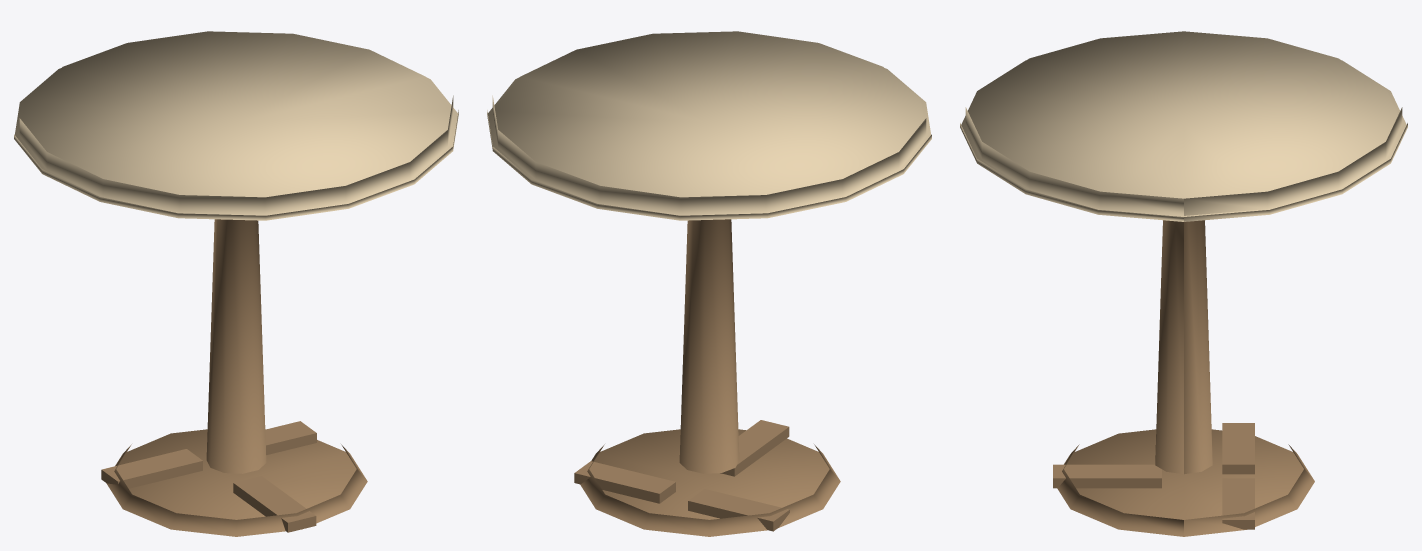
Rendered from table_round.glb.
3 views of the same model, side by side, from view 1: azimuth 30°, elevation 25°; view 2: azimuth 150°, elevation 25°; view 3: azimuth 270°, elevation 25° (orthographic).
Parts seen in each view (by area): view 1: top, base, pedestal, base_feet, top_edge; view 2: top, base, pedestal, base_feet, top_edge; view 3: top, base, pedestal, base_feet, top_edge.
Boxes of the visible parts, left/top/right/bottom form: top: left=19, top=31, right=453, bottom=214; base: left=106, top=429, right=367, bottom=536; pedestal: left=206, top=219, right=266, bottom=473; base_feet: left=101, top=421, right=316, bottom=532; top_edge: left=14, top=68, right=458, bottom=220; top: left=492, top=31, right=926, bottom=214; base: left=580, top=429, right=840, bottom=536; pedestal: left=679, top=219, right=739, bottom=473; base_feet: left=574, top=420, right=789, bottom=531; top_edge: left=487, top=68, right=931, bottom=220; top: left=965, top=31, right=1402, bottom=215; base: left=1057, top=429, right=1314, bottom=536; pedestal: left=1155, top=220, right=1212, bottom=474; base_feet: left=1053, top=423, right=1254, bottom=529; top_edge: left=960, top=60, right=1407, bottom=221.
Bounding box in the file's own units: 0.82 × 0.758 × 0.82.
